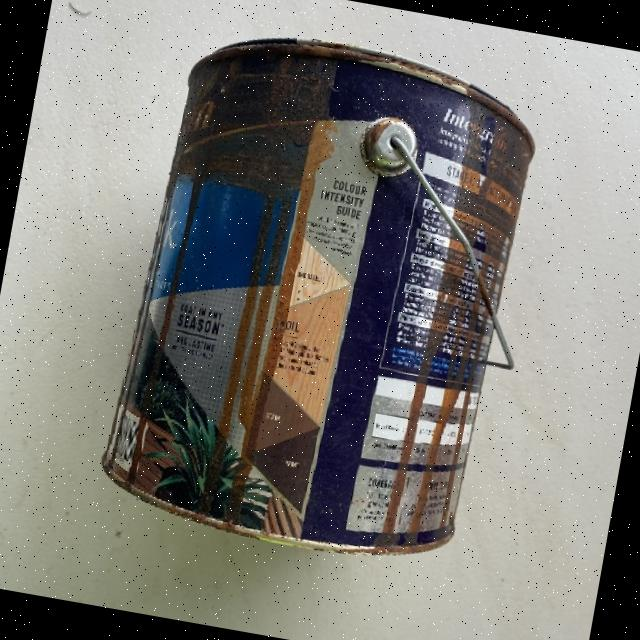metal: (91, 12, 557, 576)
